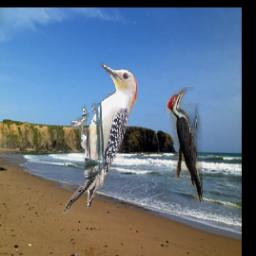Woodpecker: (62, 61, 138, 214), (167, 88, 203, 204)
